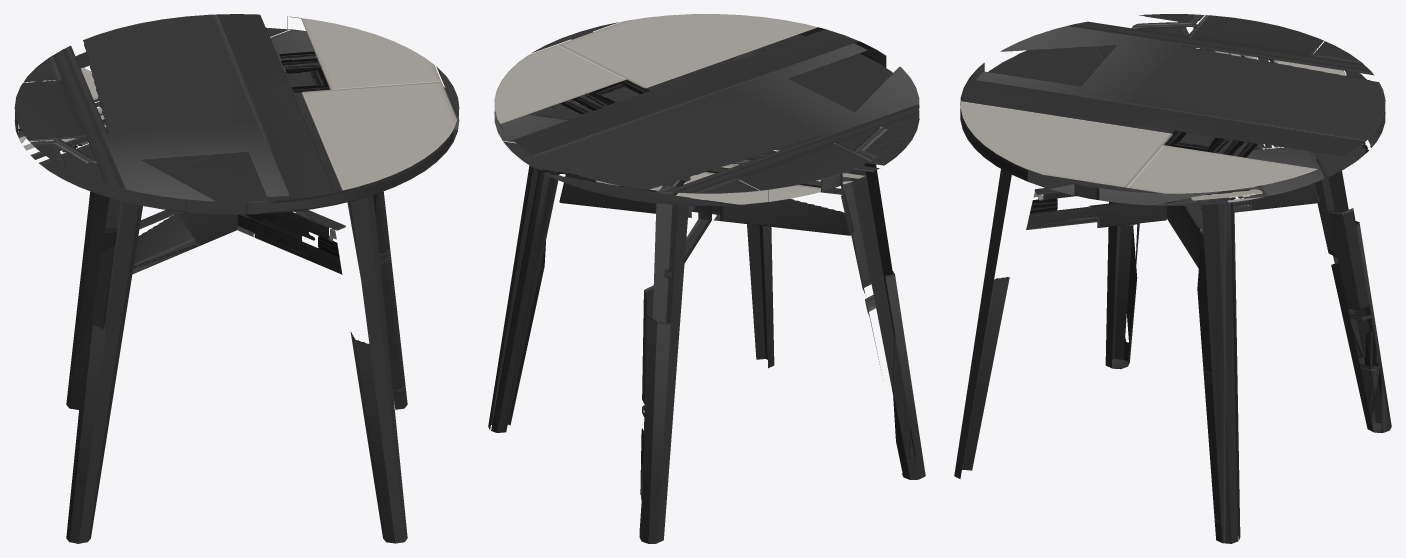
Rendered from raw_model.obj.
The picture shows the model from 3 angles, left to right: view 1: azimuth 30°, elevation 25°; view 2: azimuth 150°, elevation 25°; view 3: azimuth 270°, elevation 25°; orthographic projection. The views are drawn at different scales.
Parts seen in each view (by area): view 1: solid_001, solid_002; view 2: solid_001, solid_002; view 3: solid_001, solid_002.
Boxes of the visible parts, bbox=[...] form: solid_001: bbox=[14, 14, 459, 214]; solid_002: bbox=[66, 106, 407, 543]; solid_001: bbox=[494, 14, 919, 205]; solid_002: bbox=[488, 48, 925, 543]; solid_001: bbox=[960, 14, 1385, 205]; solid_002: bbox=[954, 159, 1391, 543].
Size of the model in its own units: 0.6152 by 0.5426 by 0.615.
